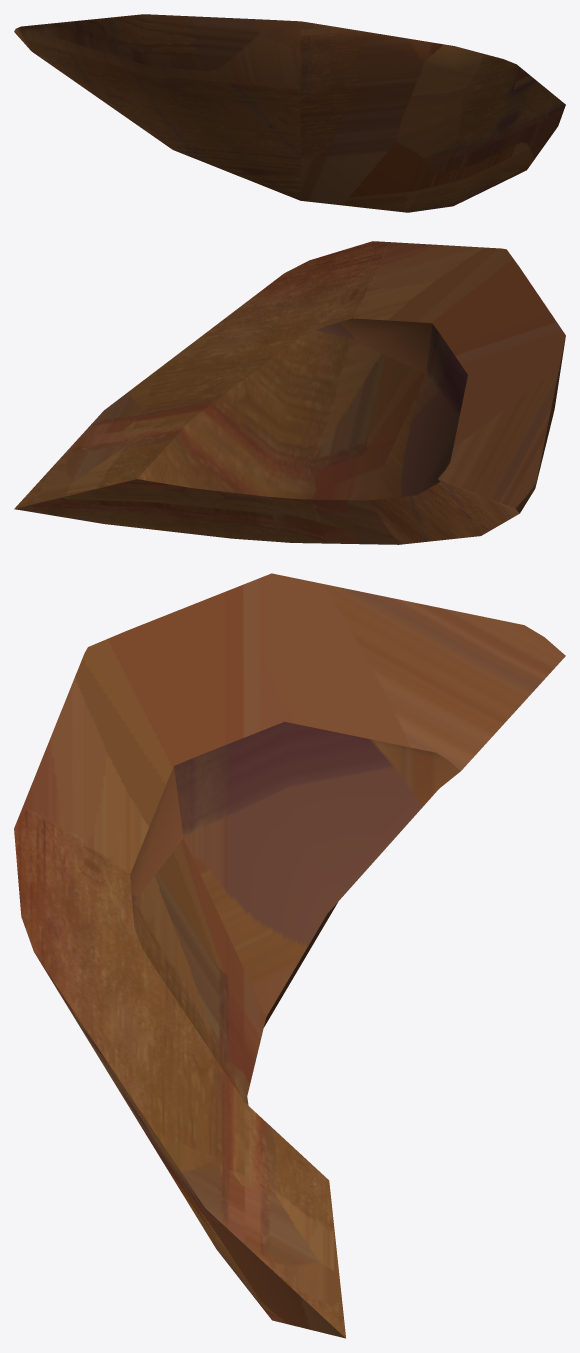
Rendered from brokebottle2-9.fbx.
The picture shows the model from 3 angles, top to bottom: view 1: azimuth 30°, elevation 25°; view 2: azimuth 150°, elevation 25°; view 3: azimuth 270°, elevation 25°; orthographic projection. The views are drawn at different scales.
Parts seen in each view (by area): view 1: polySurface16; view 2: polySurface16; view 3: polySurface16.
Part boxes in pixels (box(x1,y1,x2,y2)): polySurface16: box(14, 14, 565, 212); polySurface16: box(14, 241, 565, 544); polySurface16: box(14, 573, 565, 1338).
Bounding box in the file's own units: 36.08 × 18.39 × 20.76.
